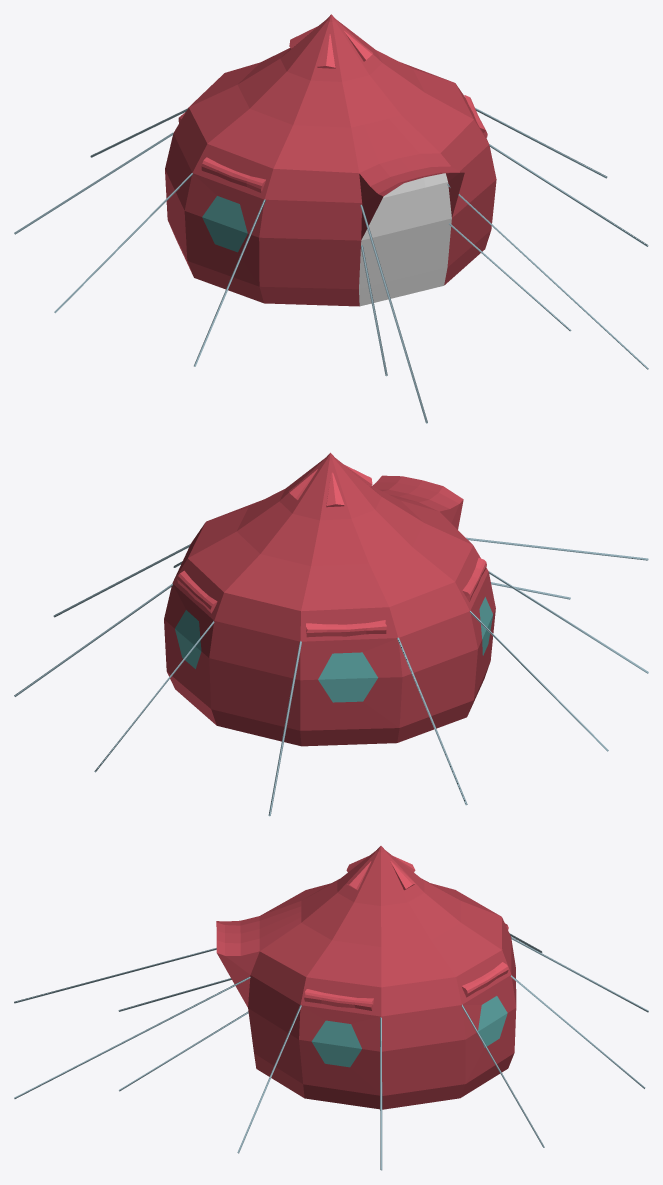
File: Tent_Medium_04.fbx
The picture shows the model from 3 angles, top to bottom: view 1: azimuth 30°, elevation 25°; view 2: azimuth 150°, elevation 25°; view 3: azimuth 270°, elevation 25°; orthographic projection. The views are drawn at different scales.
Visible parts, largest first — view 1: Tent_Base, Door; view 2: Tent_Base; view 3: Tent_Base.
Part boxes in pixels (x1=…): Tent_Base: x1=14, y1=14, x2=648, y2=423; Door: x1=359, y1=173, x2=451, y2=306; Tent_Base: x1=14, y1=452, x2=648, y2=816; Tent_Base: x1=14, y1=846, x2=648, y2=1170.
Size of the model in its own units: 10.85 by 4.39 by 12.13.
